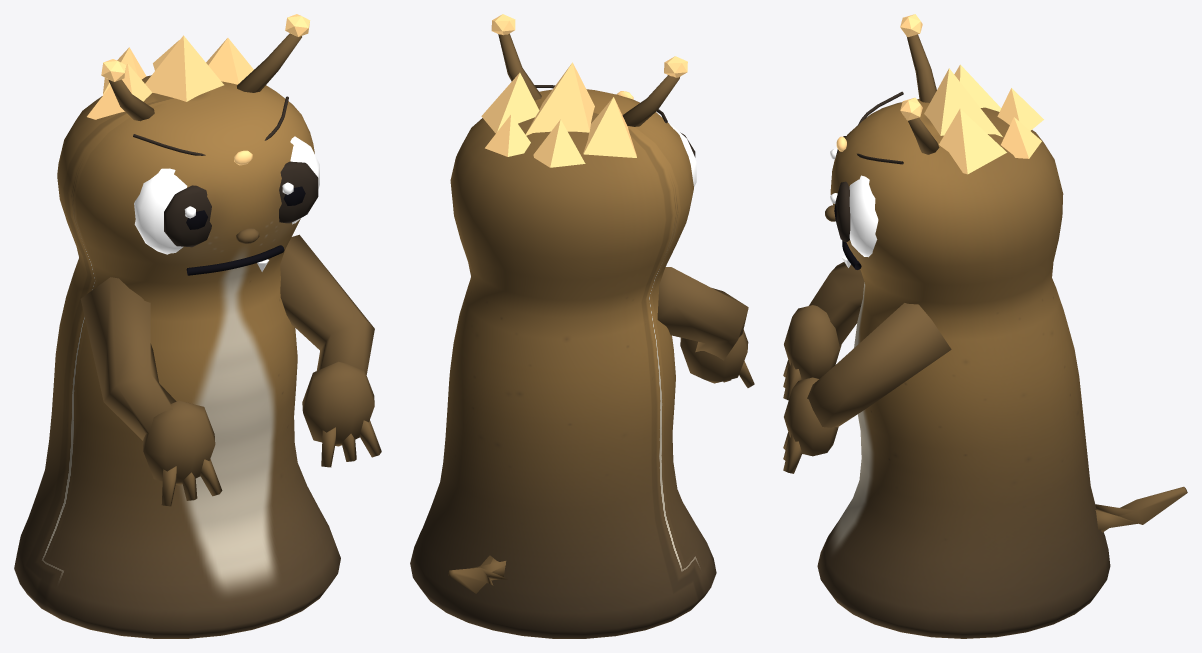
The model's file is coloso_pixar.glb.
3 views of the same model, side by side, from view 1: azimuth 30°, elevation 25°; view 2: azimuth 150°, elevation 25°; view 3: azimuth 270°, elevation 25° (orthographic). The views are drawn at different scales.
Parts seen in each view (by area): view 1: coloso_cuerpo; view 2: coloso_cuerpo; view 3: coloso_cuerpo.
Part boxes in pixels (x1,y1,x2,y2): coloso_cuerpo: [14, 14, 381, 638]; coloso_cuerpo: [410, 14, 754, 638]; coloso_cuerpo: [783, 14, 1187, 638].
Bounding box in the file's own units: 0.3116 × 0.58 × 0.4096.
Materials: 5 (1 with a texture image).
